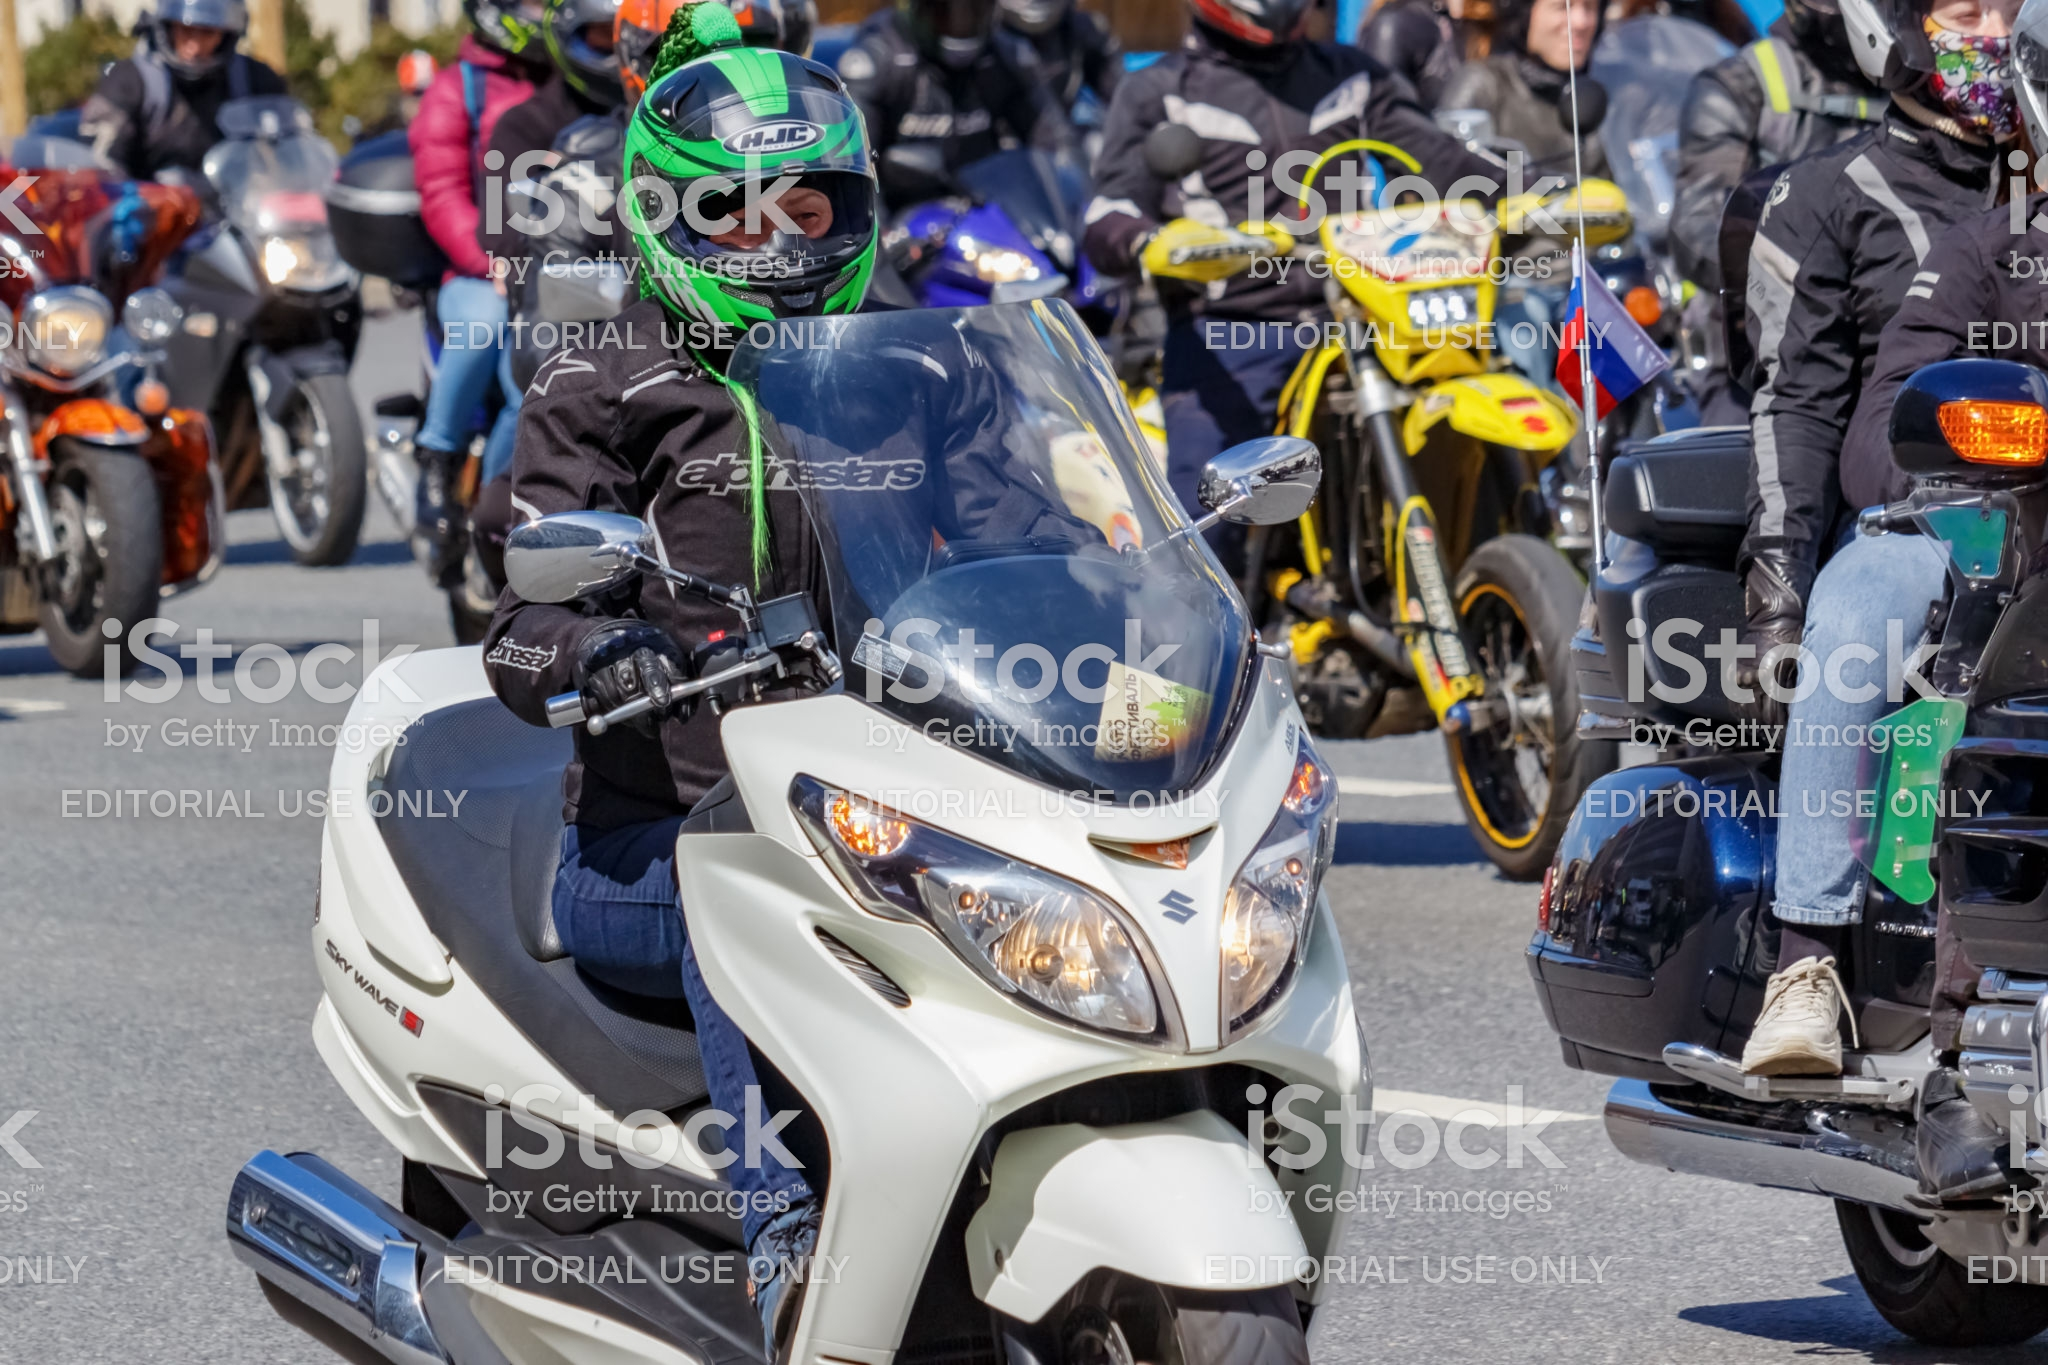helmet: (621, 69, 904, 341)
